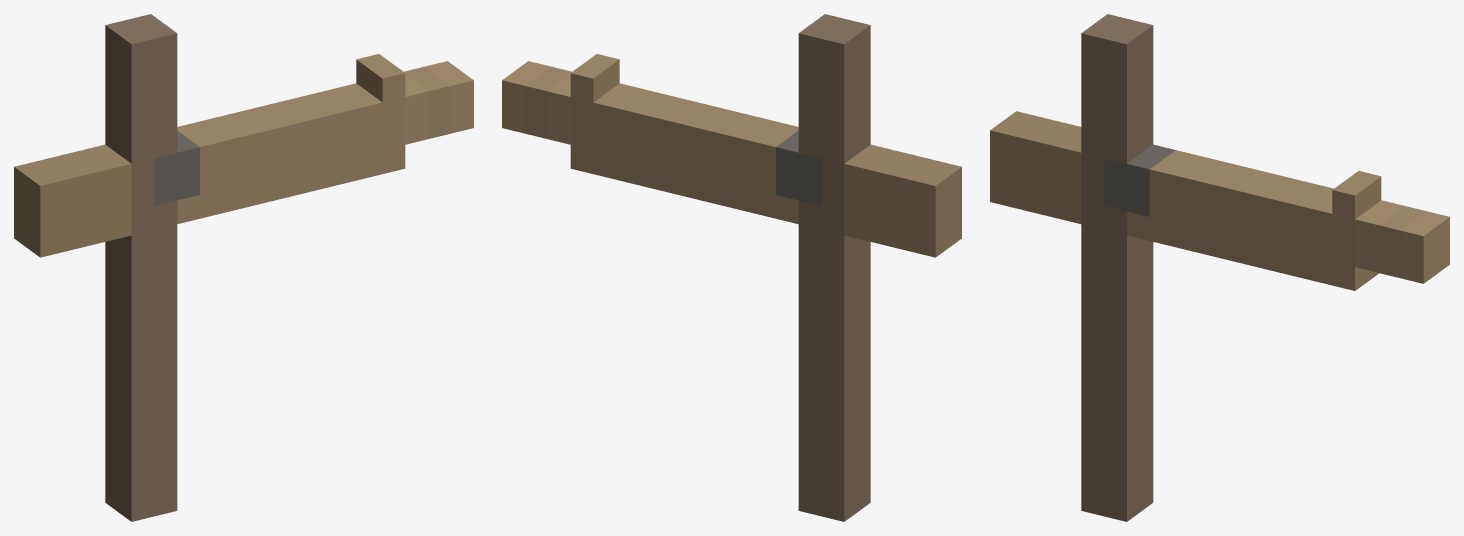
Rendered from senal_camino_03.glb.
3 views of the same model, side by side, from view 1: azimuth 30°, elevation 25°; view 2: azimuth 150°, elevation 25°; view 3: azimuth 330°, elevation 25° (orthographic).
Visible parts, largest first — view 1: senal_camino_03; view 2: senal_camino_03; view 3: senal_camino_03.
Part boxes in pixels (<box>): senal_camino_03: <box>14,14,473,521</box>; senal_camino_03: <box>502,14,961,521</box>; senal_camino_03: <box>990,14,1449,521</box>.
Bounding box in the file's own units: 1.9 × 2 × 0.2.
